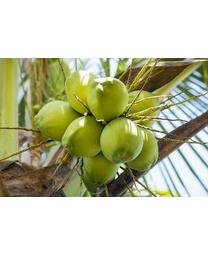coconut: (101, 117, 143, 164), (34, 99, 80, 141), (61, 67, 99, 116), (60, 115, 101, 157), (87, 75, 126, 119), (127, 91, 159, 127), (130, 131, 157, 171), (83, 154, 116, 183)
